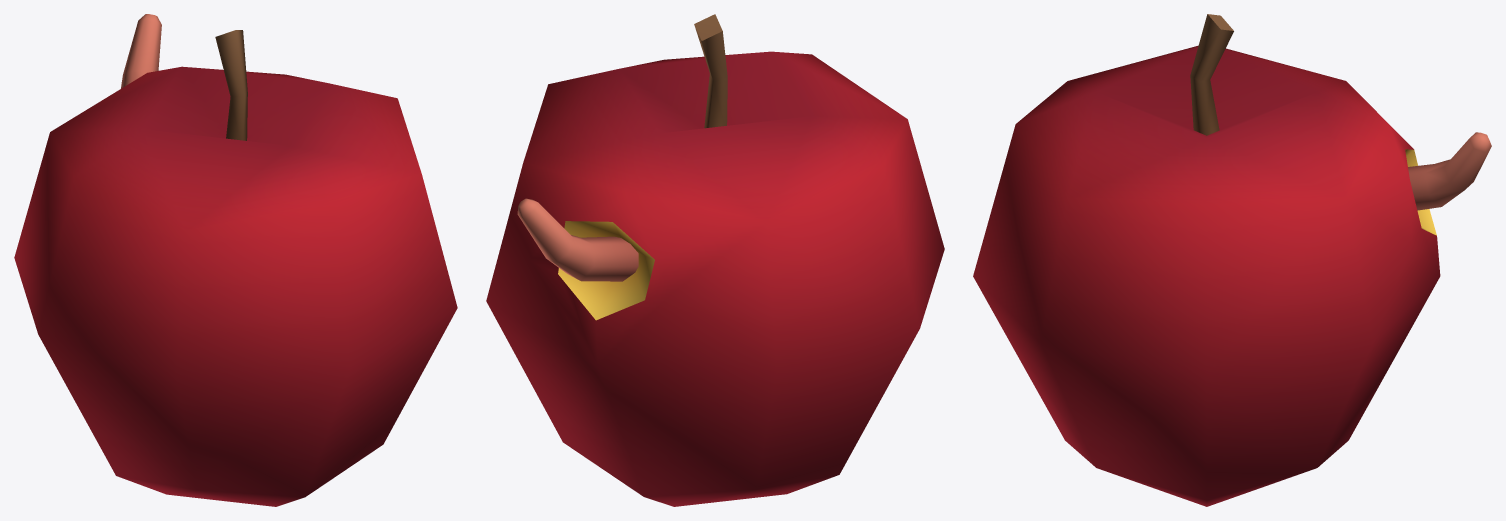
Rendered from AppleWithWorm.fbx.
The picture shows the model from 3 angles, left to right: view 1: azimuth 30°, elevation 25°; view 2: azimuth 150°, elevation 25°; view 3: azimuth 270°, elevation 25°; orthographic projection. The views are drawn at different scales.
Visible parts, largest first — view 1: AppleWithWorm; view 2: AppleWithWorm; view 3: AppleWithWorm.
Boxes of the visible parts, x1,y1,x2,y2 form: AppleWithWorm: [14, 14, 457, 506]; AppleWithWorm: [486, 14, 944, 506]; AppleWithWorm: [973, 14, 1491, 506].
Size of the model in its own units: 10.59 by 11.45 by 11.75.
